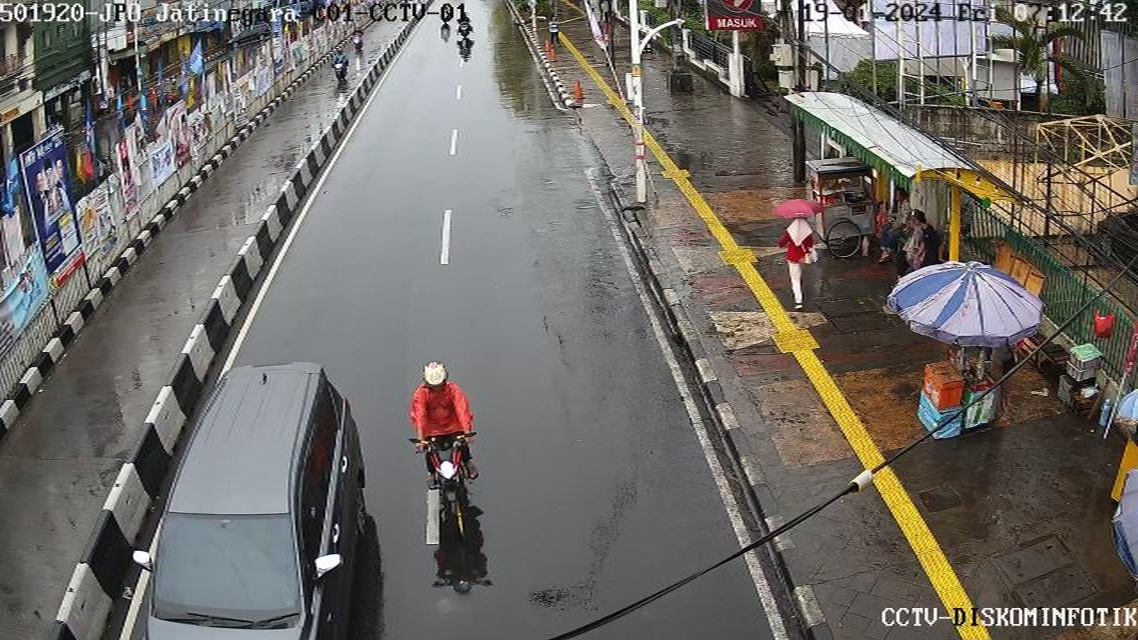Gerobak: (781, 143, 880, 275)
